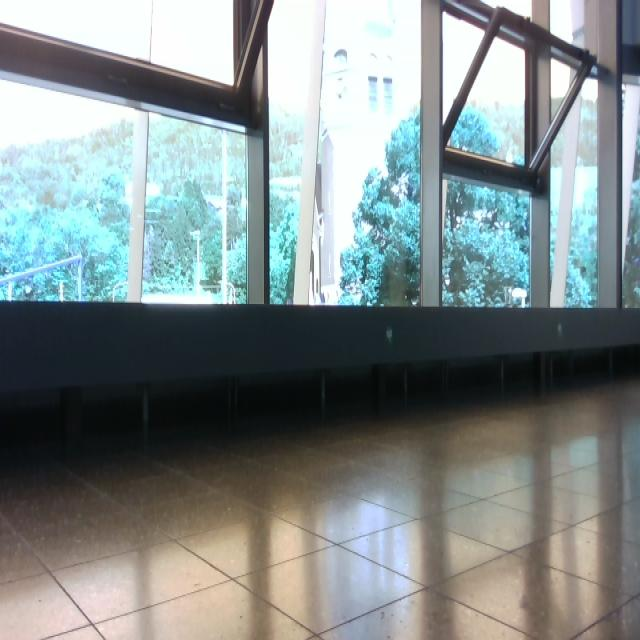tiled floor: (1, 352, 640, 640)
tree: (1, 121, 133, 301), (144, 116, 249, 302), (341, 110, 420, 305), (443, 176, 529, 306), (566, 81, 598, 306), (270, 106, 304, 304), (451, 102, 522, 164), (551, 117, 571, 304), (624, 116, 640, 308)
window: (1, 81, 247, 304), (269, 1, 420, 306), (1, 1, 233, 85), (443, 177, 533, 306), (548, 78, 598, 306), (449, 37, 525, 165), (444, 14, 484, 120), (623, 76, 640, 308), (551, 1, 584, 48), (553, 61, 574, 114), (482, 1, 532, 17)
windows frame: (1, 1, 640, 397)
